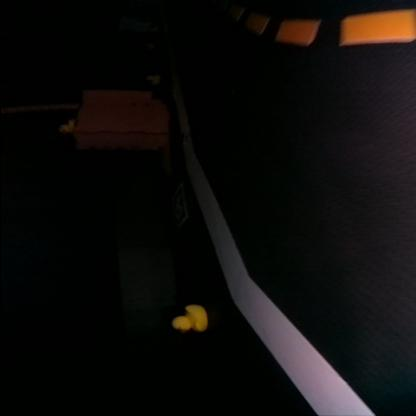Duckie: (170, 303, 206, 332), (57, 119, 73, 130), (145, 74, 155, 82)
QR code: (170, 190, 186, 227)
